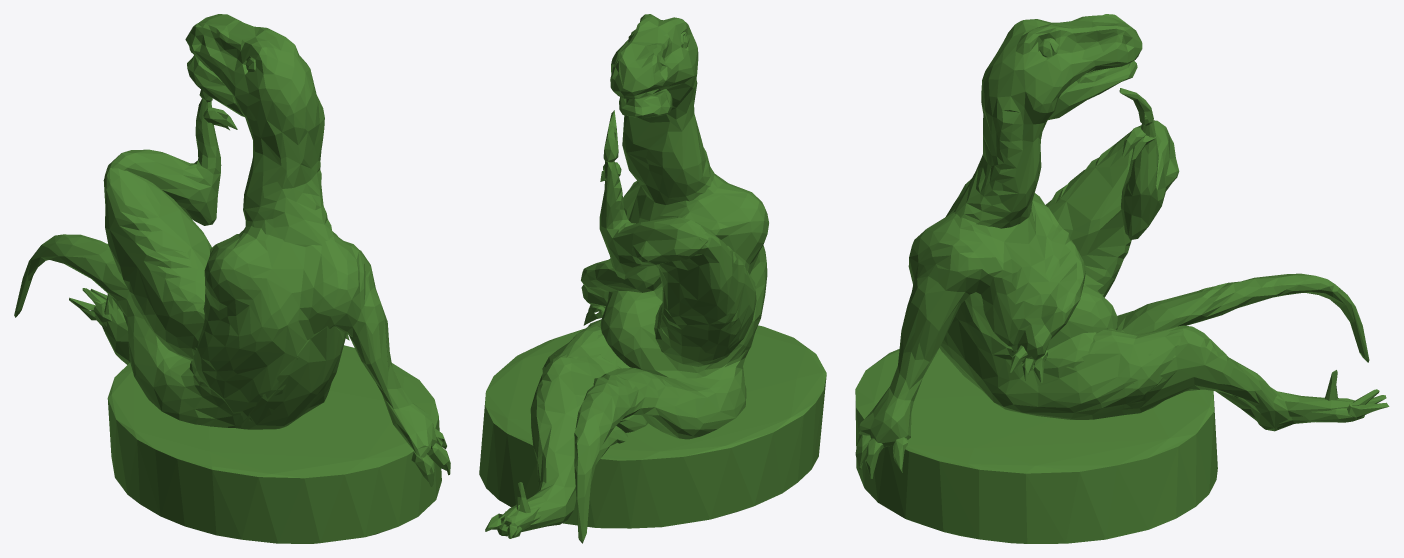
The model's file is philosoraptor.glb.
3 renders of one model, left to right at view 1: azimuth 30°, elevation 25°; view 2: azimuth 150°, elevation 25°; view 3: azimuth 270°, elevation 25°, orthographic.
Visible parts, largest first — view 1: uploads_files_60457_rexy_1_; view 2: uploads_files_60457_rexy_1_; view 3: uploads_files_60457_rexy_1_.
Part boxes in pixels (x1,y1,x2,y2): uploads_files_60457_rexy_1_: (14,14,450,543); uploads_files_60457_rexy_1_: (479,14,826,543); uploads_files_60457_rexy_1_: (855,14,1389,543).
Size of the model in its own units: 1.18 by 1.74 by 1.88.
